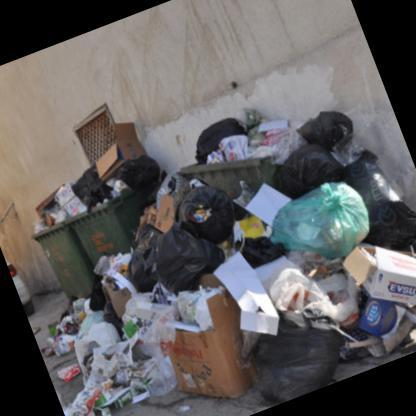Garbage: (141, 155, 415, 408), (0, 124, 162, 238), (323, 130, 415, 278), (335, 203, 415, 353), (264, 170, 377, 262), (209, 246, 290, 358), (87, 323, 184, 415), (265, 246, 356, 342), (147, 210, 230, 310), (166, 174, 245, 262), (181, 99, 263, 169), (272, 136, 354, 206), (156, 274, 216, 338), (250, 115, 310, 178), (350, 286, 413, 345), (89, 242, 144, 308), (134, 350, 185, 415), (104, 148, 160, 198), (90, 328, 144, 372), (64, 163, 107, 218), (62, 384, 127, 415), (298, 106, 351, 144), (146, 190, 180, 244), (38, 308, 76, 353), (244, 103, 278, 142), (48, 182, 80, 220), (64, 288, 99, 318), (63, 169, 70, 175)
